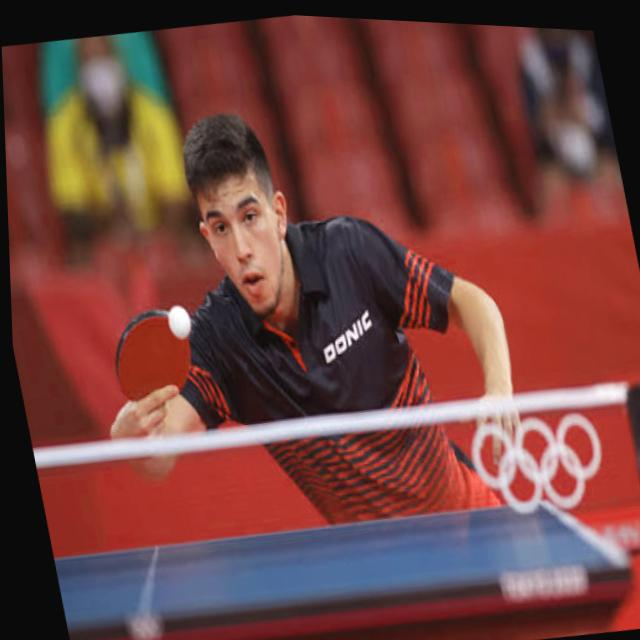TT Net: (33, 375, 640, 601)
TT Racket: (113, 298, 205, 416)
TT Table: (56, 498, 627, 636)
